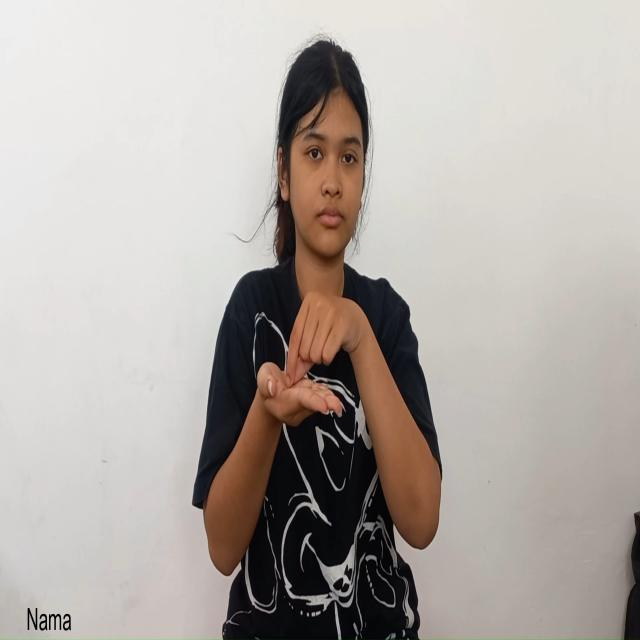Nama -BISINDO-: (251, 284, 379, 440)
